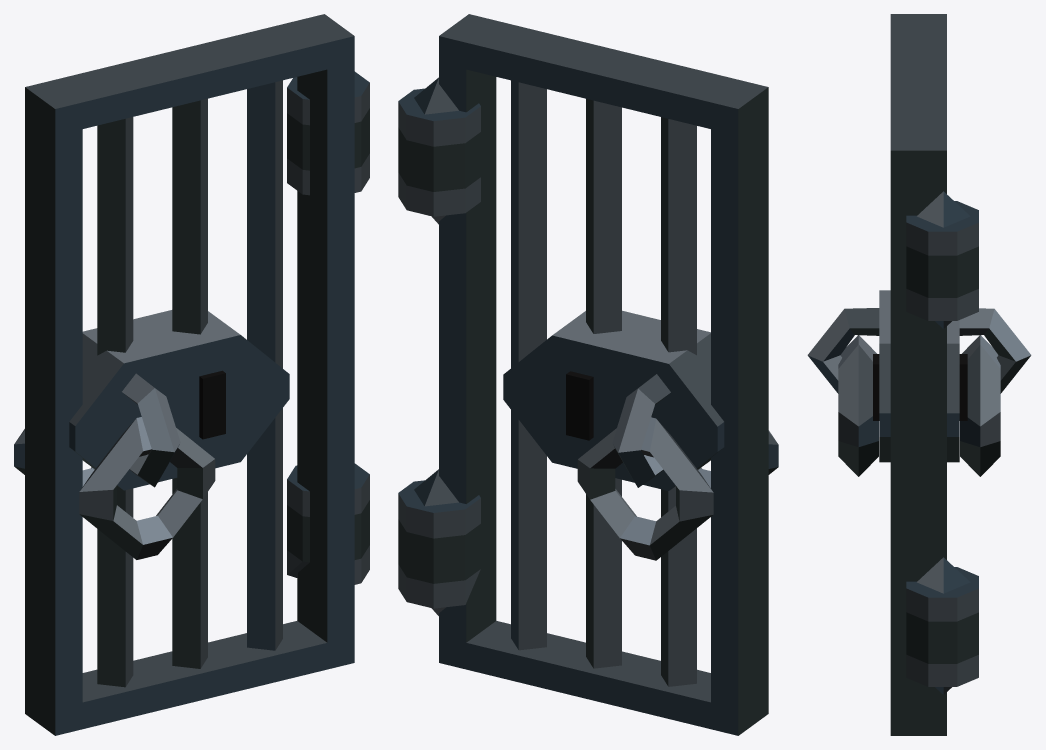
File: jail_door.fbx
3 views of the same model, side by side, from view 1: azimuth 30°, elevation 25°; view 2: azimuth 150°, elevation 25°; view 3: azimuth 270°, elevation 25° (orthographic). The views are drawn at different scales.
Visible parts, largest first — view 1: jail_door; view 2: jail_door; view 3: jail_door.
Part boxes in pixels (box(x1,y1,x2,y2)): jail_door: box(14, 14, 369, 735); jail_door: box(398, 14, 778, 735); jail_door: box(807, 14, 1031, 735).
Bounding box in the file's own units: 112 × 200 × 69.36.
